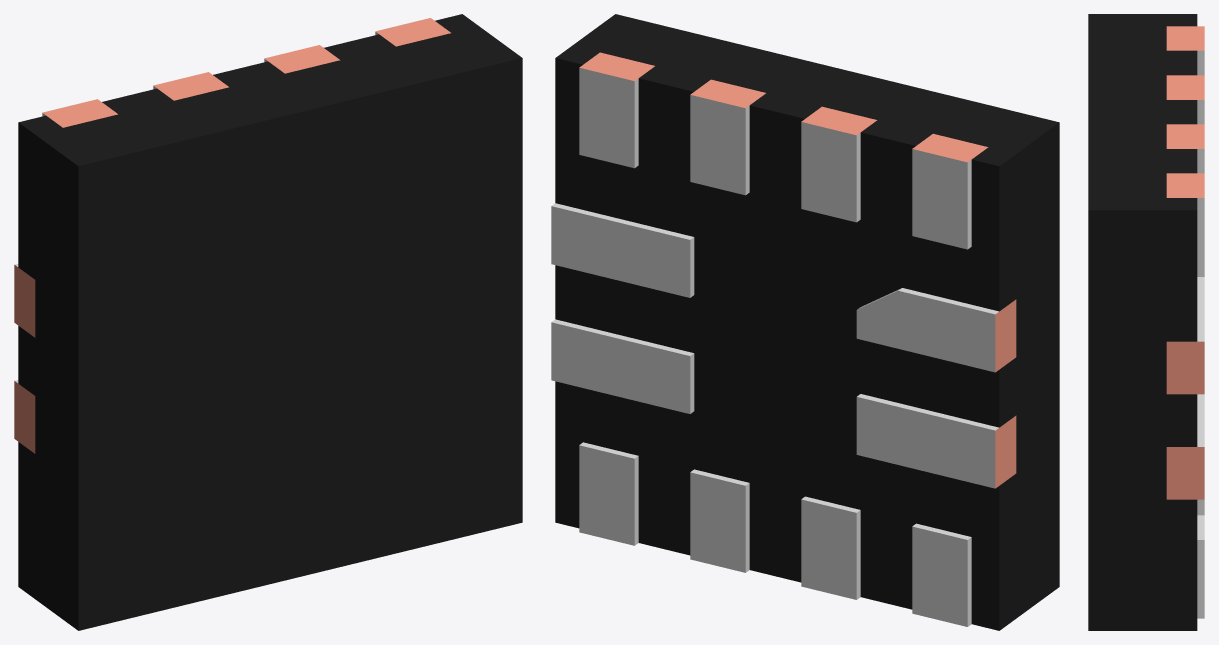
Rendered from TUSB320IRWBR.glb.
The picture shows the model from 3 angles, left to right: view 1: azimuth 30°, elevation 25°; view 2: azimuth 150°, elevation 25°; view 3: azimuth 270°, elevation 25°; orthographic projection. The views are drawn at different scales.
Visible parts, largest first — view 1: BODY-QFN, SOLID (×6); view 2: BODY-QFN, SOLID (×12); view 3: BODY-QFN, SOLID (×7).
Part boxes in pixels (box(x1,y1,x2,y2)): BODY-QFN: box(18, 14, 522, 630); SOLID (×6): box(14, 18, 450, 453); BODY-QFN: box(555, 14, 1059, 630); SOLID (×12): box(551, 52, 1016, 626); BODY-QFN: box(1088, 14, 1197, 630); SOLID (×7): box(1166, 26, 1204, 618).
Bounding box in the file's own units: 0.0016 × 0.0016 × 0.0004.
